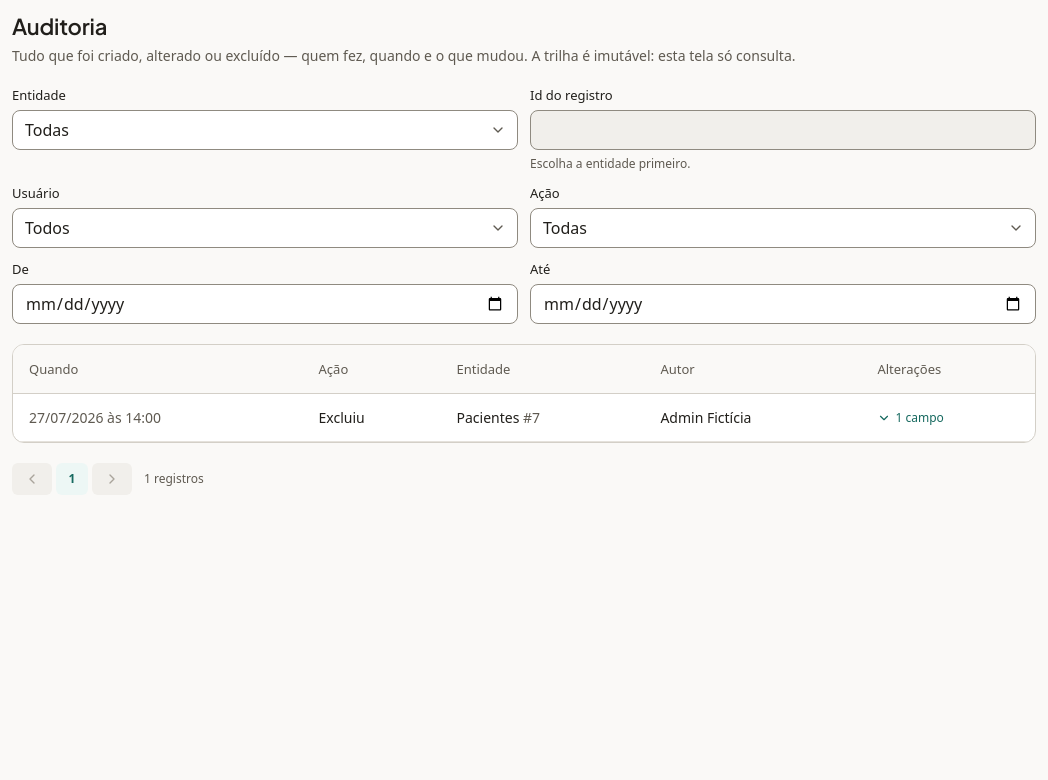
Test case: deve mostrar os valores anteriores ao expandir uma exclusão
The width and height of the screenshot is (1048, 780).
Click the button "1 campo".
click(911, 418)  # box [877,410,944,426]
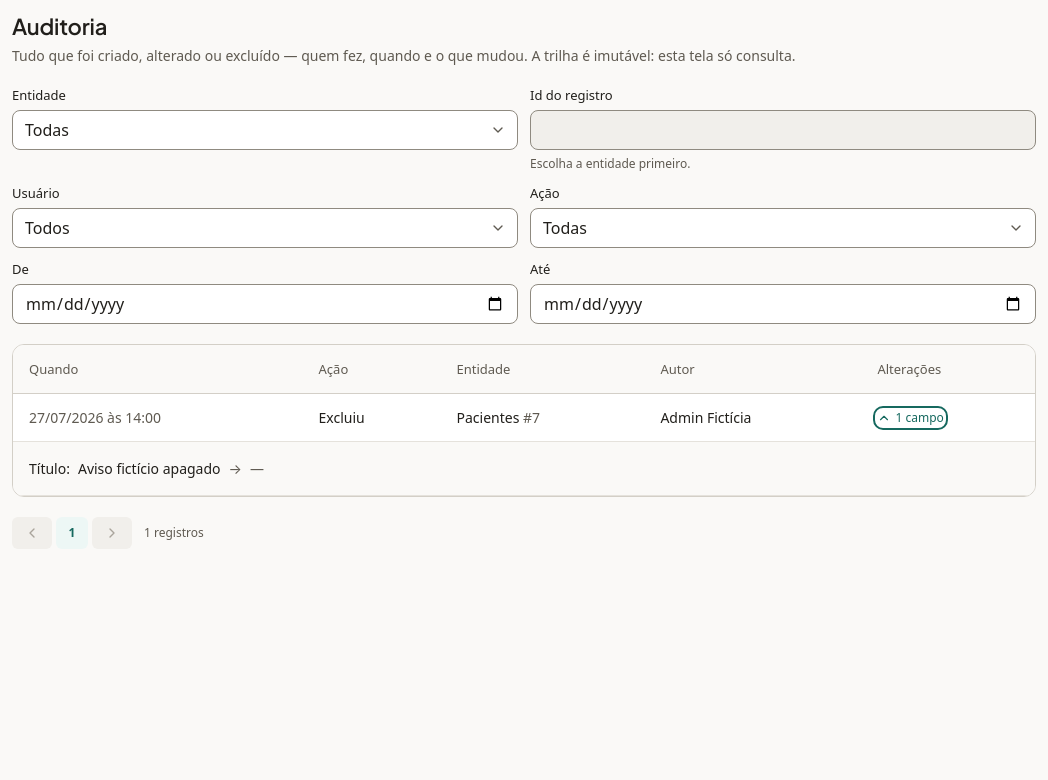
Check: the text "Aviso fictício apagado" is shown, box [78,458,221,479]
Check: the text "—" is shown, box [250,458,264,479]
